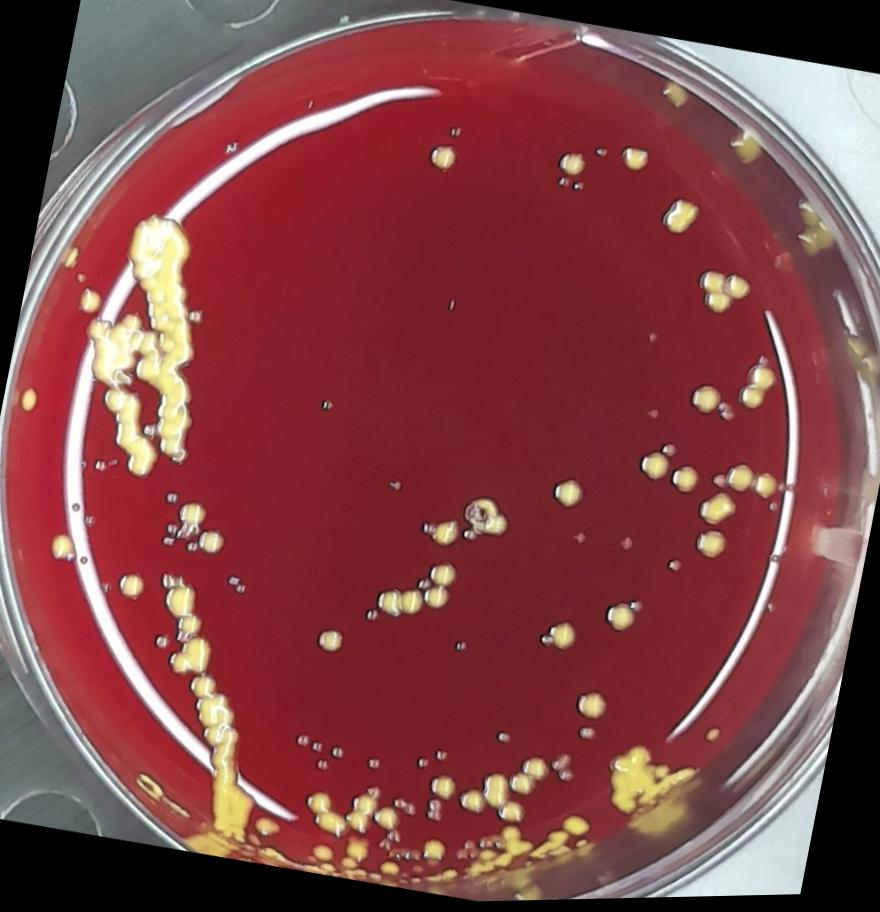mluteus: (160, 670, 278, 850), (88, 384, 172, 486), (595, 735, 678, 828), (688, 263, 758, 328), (650, 194, 708, 248), (163, 629, 219, 684), (630, 436, 682, 491), (368, 583, 426, 627), (706, 455, 760, 501), (506, 754, 550, 803), (108, 565, 152, 613), (568, 686, 614, 731), (543, 472, 589, 515), (538, 618, 583, 661), (159, 581, 204, 623), (666, 462, 704, 503), (193, 524, 230, 561), (424, 770, 460, 804), (454, 785, 488, 819), (657, 557, 687, 581), (573, 723, 599, 747)
